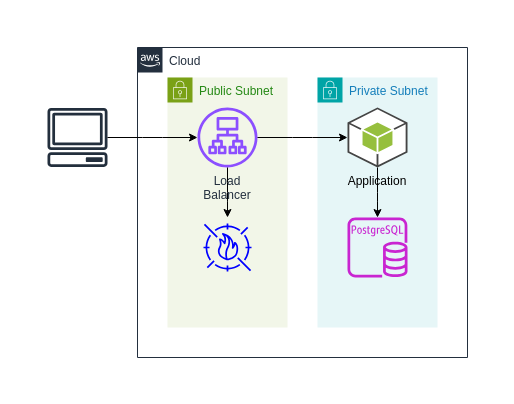
This 514x404 diagram has some shape labels left out. The centre of each missing label's shape, as x and y in pixels:
Client: the point at 77,137
Firewall: the point at 227,247
Postgres: the point at 377,247
